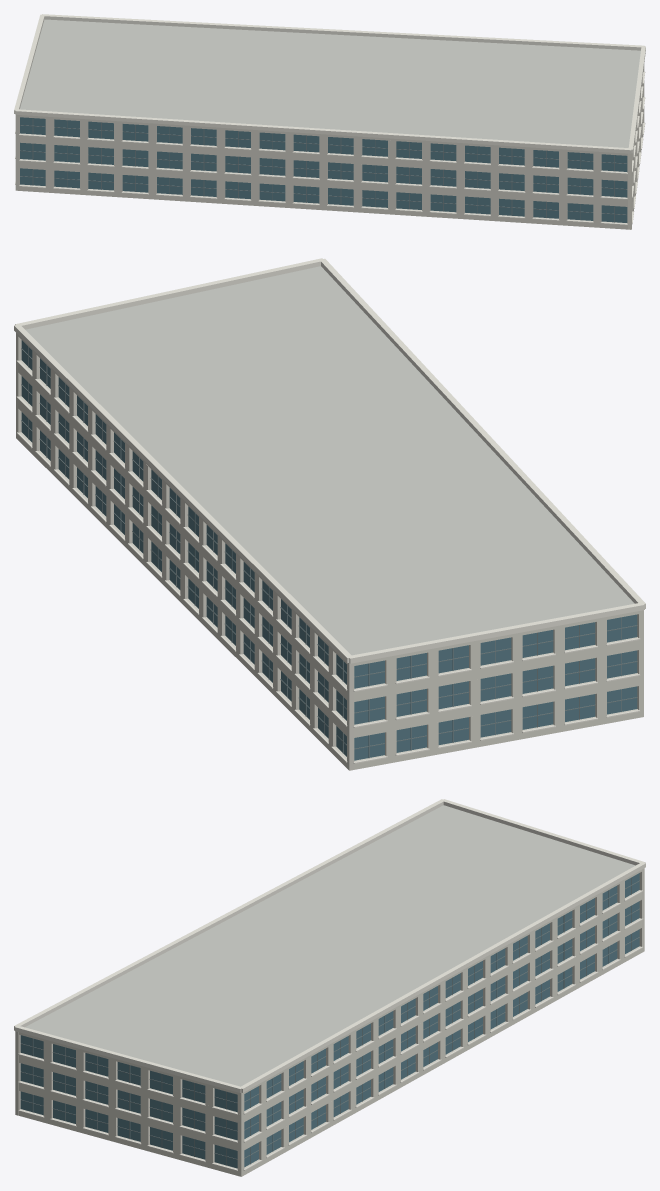
3 renders of one model, top to bottom at view 1: azimuth 30°, elevation 25°; view 2: azimuth 150°, elevation 25°; view 3: azimuth 270°, elevation 25°, orthographic. The views are drawn at different scales.
Parts seen in each view (by area): view 1: roof, wall, glass, trim, metal; view 2: roof, wall, glass, trim, metal; view 3: roof, wall, glass, trim, metal.
Boxes of the visible parts, left/top/right/bottom form: roof: left=20, top=19, right=640, bottom=147; wall: left=15, top=65, right=644, bottom=229; glass: left=20, top=117, right=627, bottom=222; trim: left=14, top=14, right=645, bottom=225; metal: left=20, top=118, right=627, bottom=222; roof: left=25, top=266, right=634, bottom=655; wall: left=16, top=333, right=643, bottom=770; glass: left=21, top=340, right=637, bottom=760; trim: left=14, top=258, right=645, bottom=763; metal: left=21, top=346, right=637, bottom=758; roof: left=25, top=805, right=635, bottom=1086; wall: left=15, top=868, right=644, bottom=1176; glass: left=20, top=873, right=639, bottom=1168; trim: left=14, top=799, right=645, bottom=1171; metal: left=20, top=877, right=639, bottom=1165.
Size of the model in its own units: 68.55 by 9.74 by 63.1.
